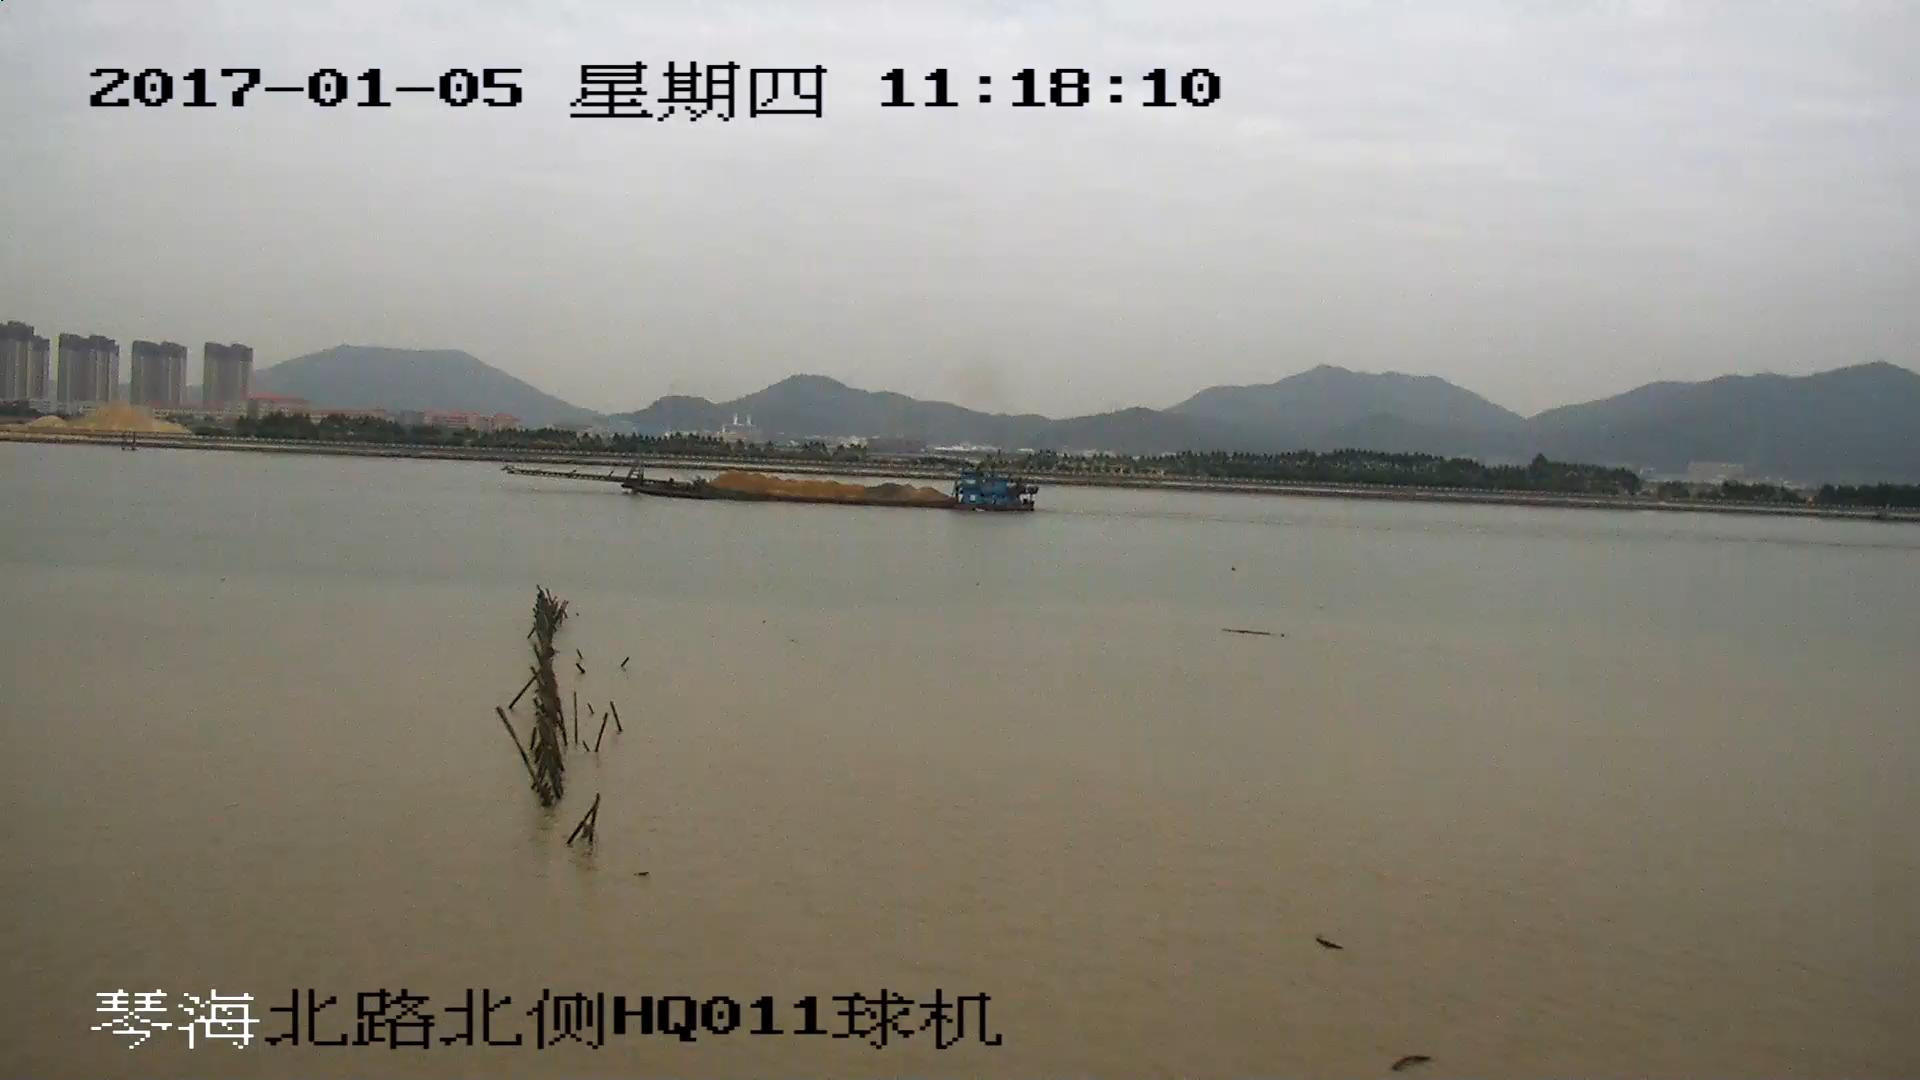ore carrier: (514, 442, 1028, 510)
